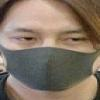mask: (3, 44, 100, 90)
